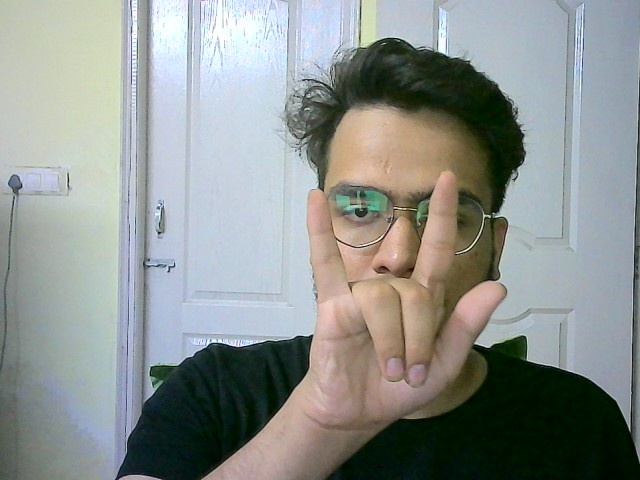I Love You: (305, 164, 511, 437)
